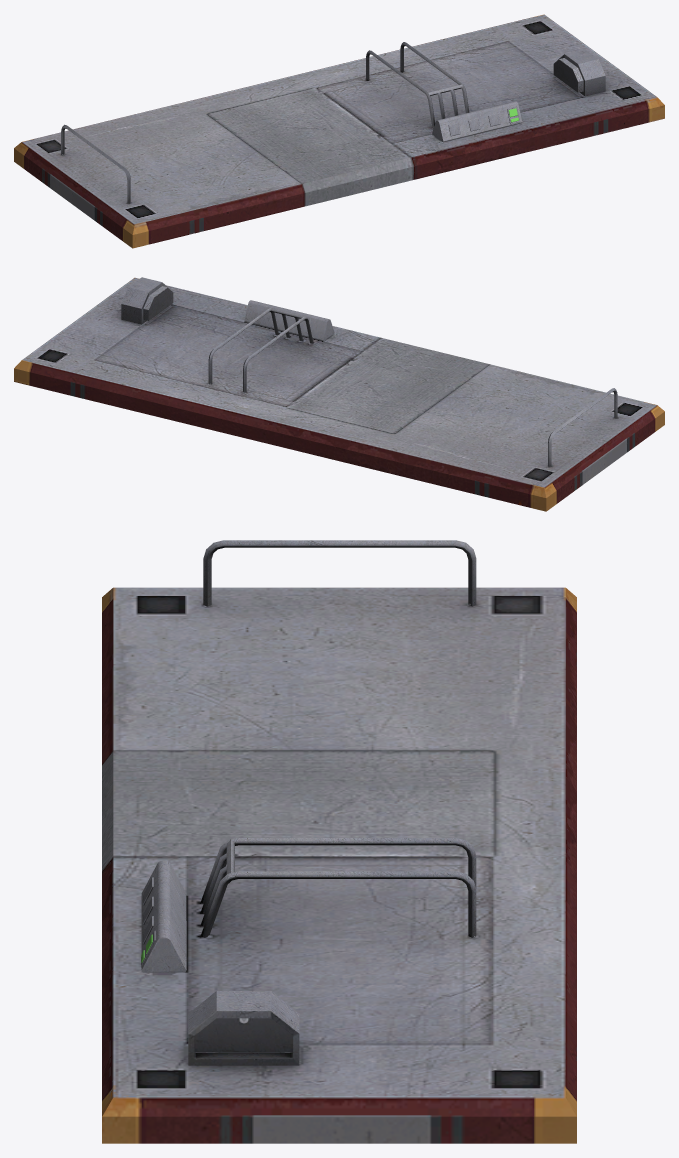
Rendered from ark_testing_equipment_bench.DAE.
The picture shows the model from 3 angles, top to bottom: view 1: azimuth 30°, elevation 25°; view 2: azimuth 150°, elevation 25°; view 3: azimuth 270°, elevation 25°; orthographic projection. The views are drawn at different scales.
Parts seen in each view (by area): view 1: ark_testing_equipment_bench__2_; view 2: ark_testing_equipment_bench__2_; view 3: ark_testing_equipment_bench__2_.
Part boxes in pixels (x1,y1,x2,y2): ark_testing_equipment_bench__2_: (14,14,664,248); ark_testing_equipment_bench__2_: (14,277,664,511); ark_testing_equipment_bench__2_: (102,540,576,1143).
Size of the model in its own units: 1.5 by 0.1425 by 0.5788.
